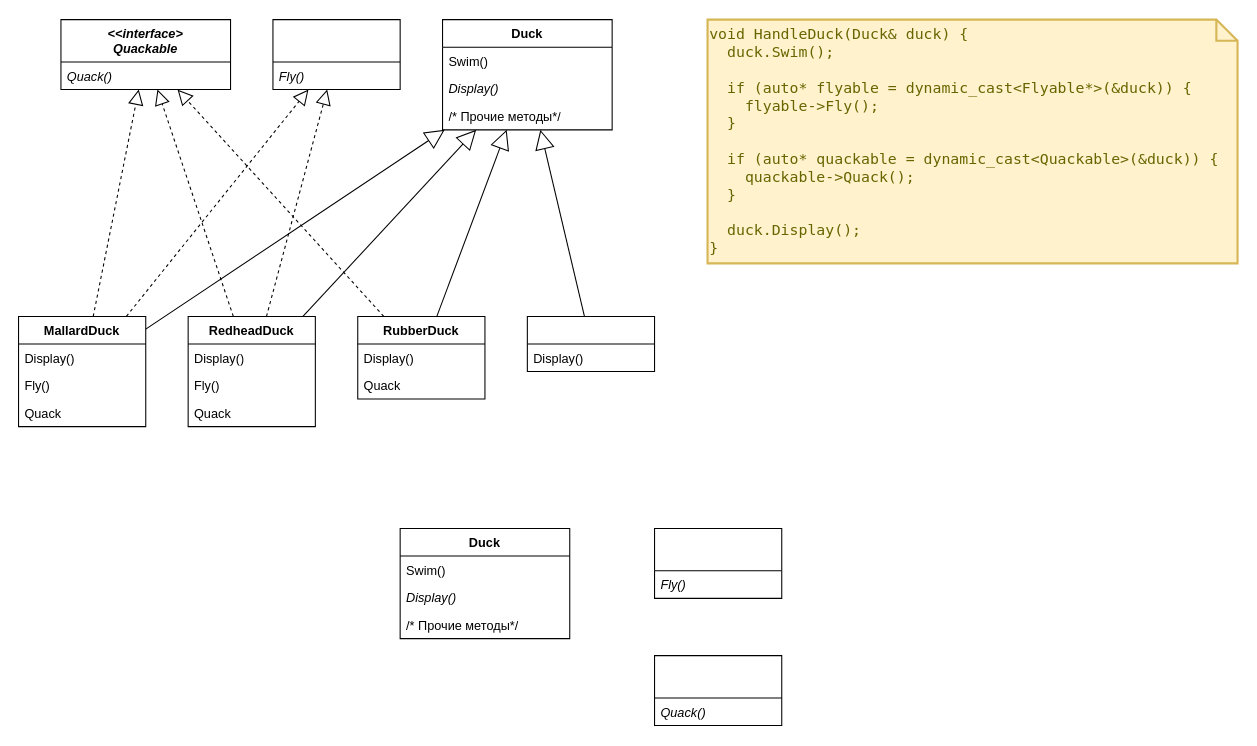
Image size: 1257x746. Some labels were removed from this diagram. Each missing label, with the box of its shape:
<<interface>> Flyable: (272, 19, 400, 90)
<<interface>> FlyBehavior: (653, 527, 782, 598)
<<interface>> QuackBehavior: (653, 655, 782, 726)
DecoyDuck: (526, 315, 655, 372)
